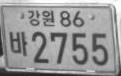2: (30, 31, 48, 64)
5: (91, 32, 109, 66), (71, 32, 89, 65)
6: (73, 10, 85, 27)
7: (49, 31, 68, 65)
8: (58, 10, 72, 27)
강원_H: (26, 8, 55, 27)
바: (8, 31, 28, 57)
